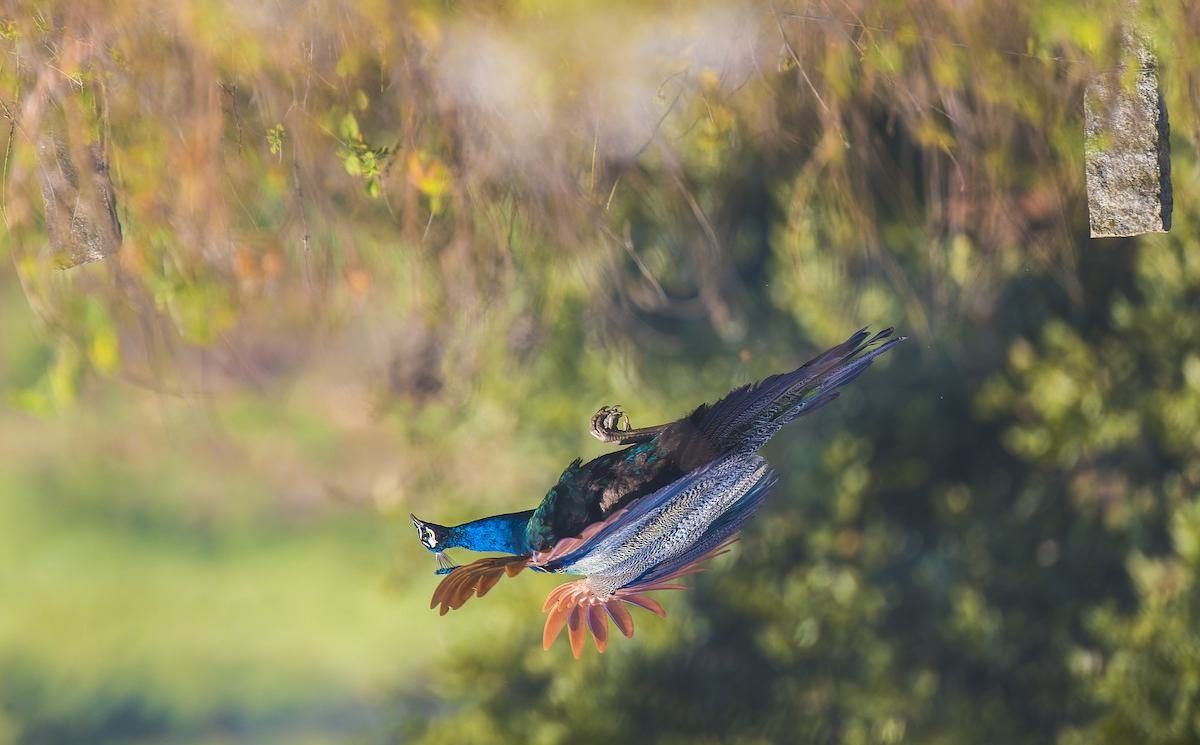peacock: (379, 345, 869, 633)
